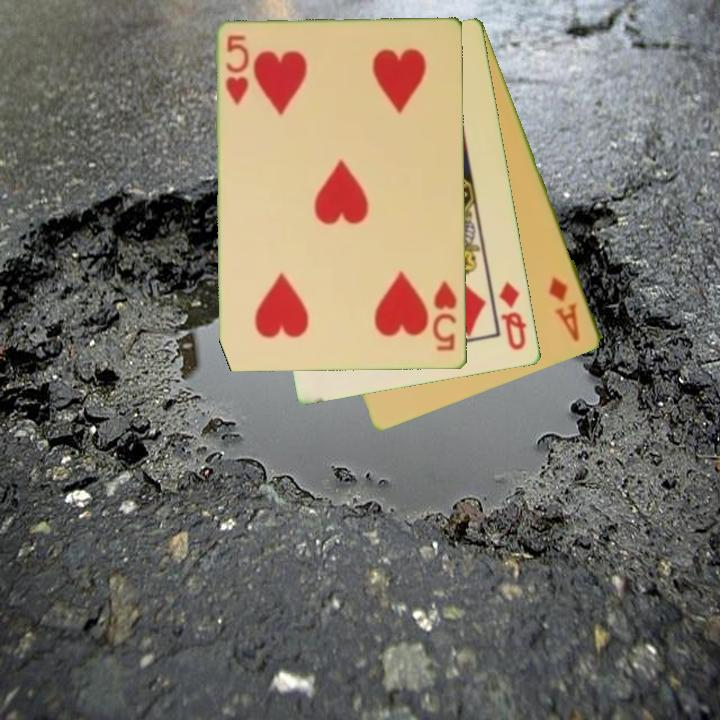5h: (429, 277, 460, 354), (223, 32, 252, 108)
Ad: (545, 273, 583, 345)
Qd: (495, 278, 530, 354)
